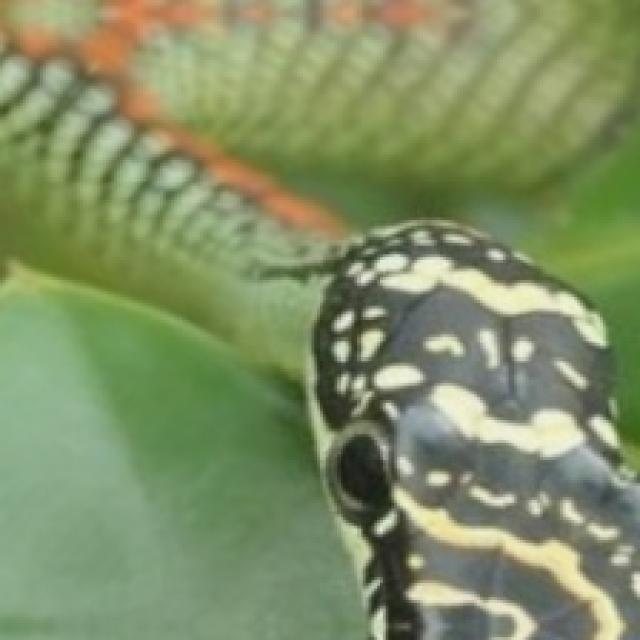paradise tree snake: (0, 0, 637, 463), (0, 54, 360, 637)
